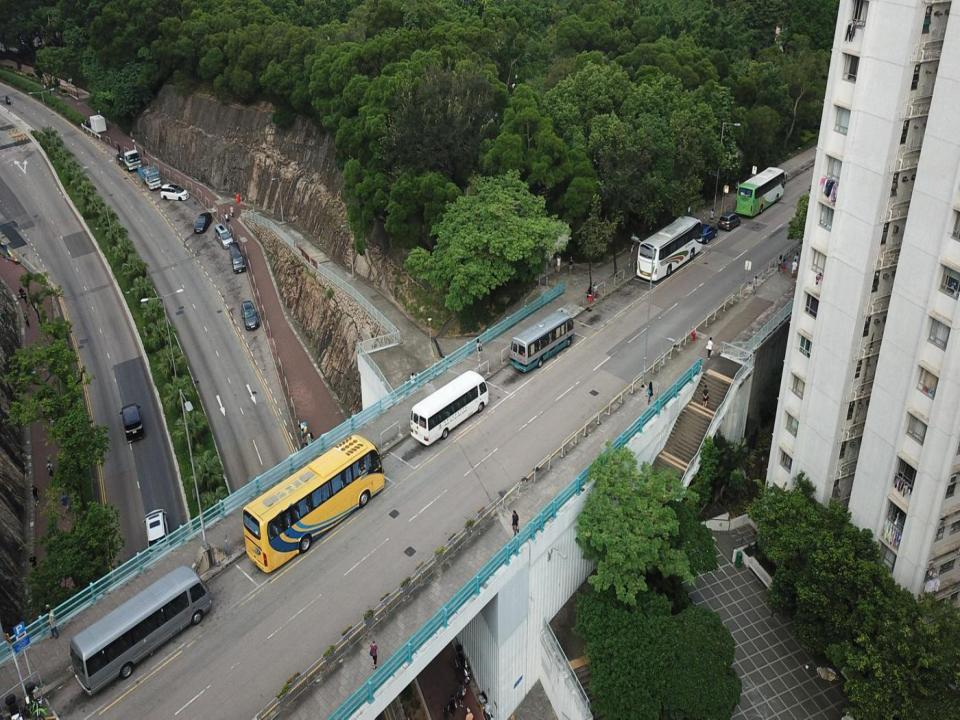bus: (242, 434, 383, 574), (71, 564, 211, 692), (409, 371, 490, 445), (636, 216, 702, 282), (510, 312, 575, 374), (734, 164, 788, 219)
car: (240, 300, 260, 332), (718, 211, 738, 232), (194, 212, 212, 234), (697, 225, 718, 242)
truck: (115, 142, 141, 172), (137, 160, 162, 191)
van: (142, 508, 171, 556), (120, 403, 145, 444), (214, 222, 234, 249), (229, 241, 246, 272), (160, 184, 188, 202)
